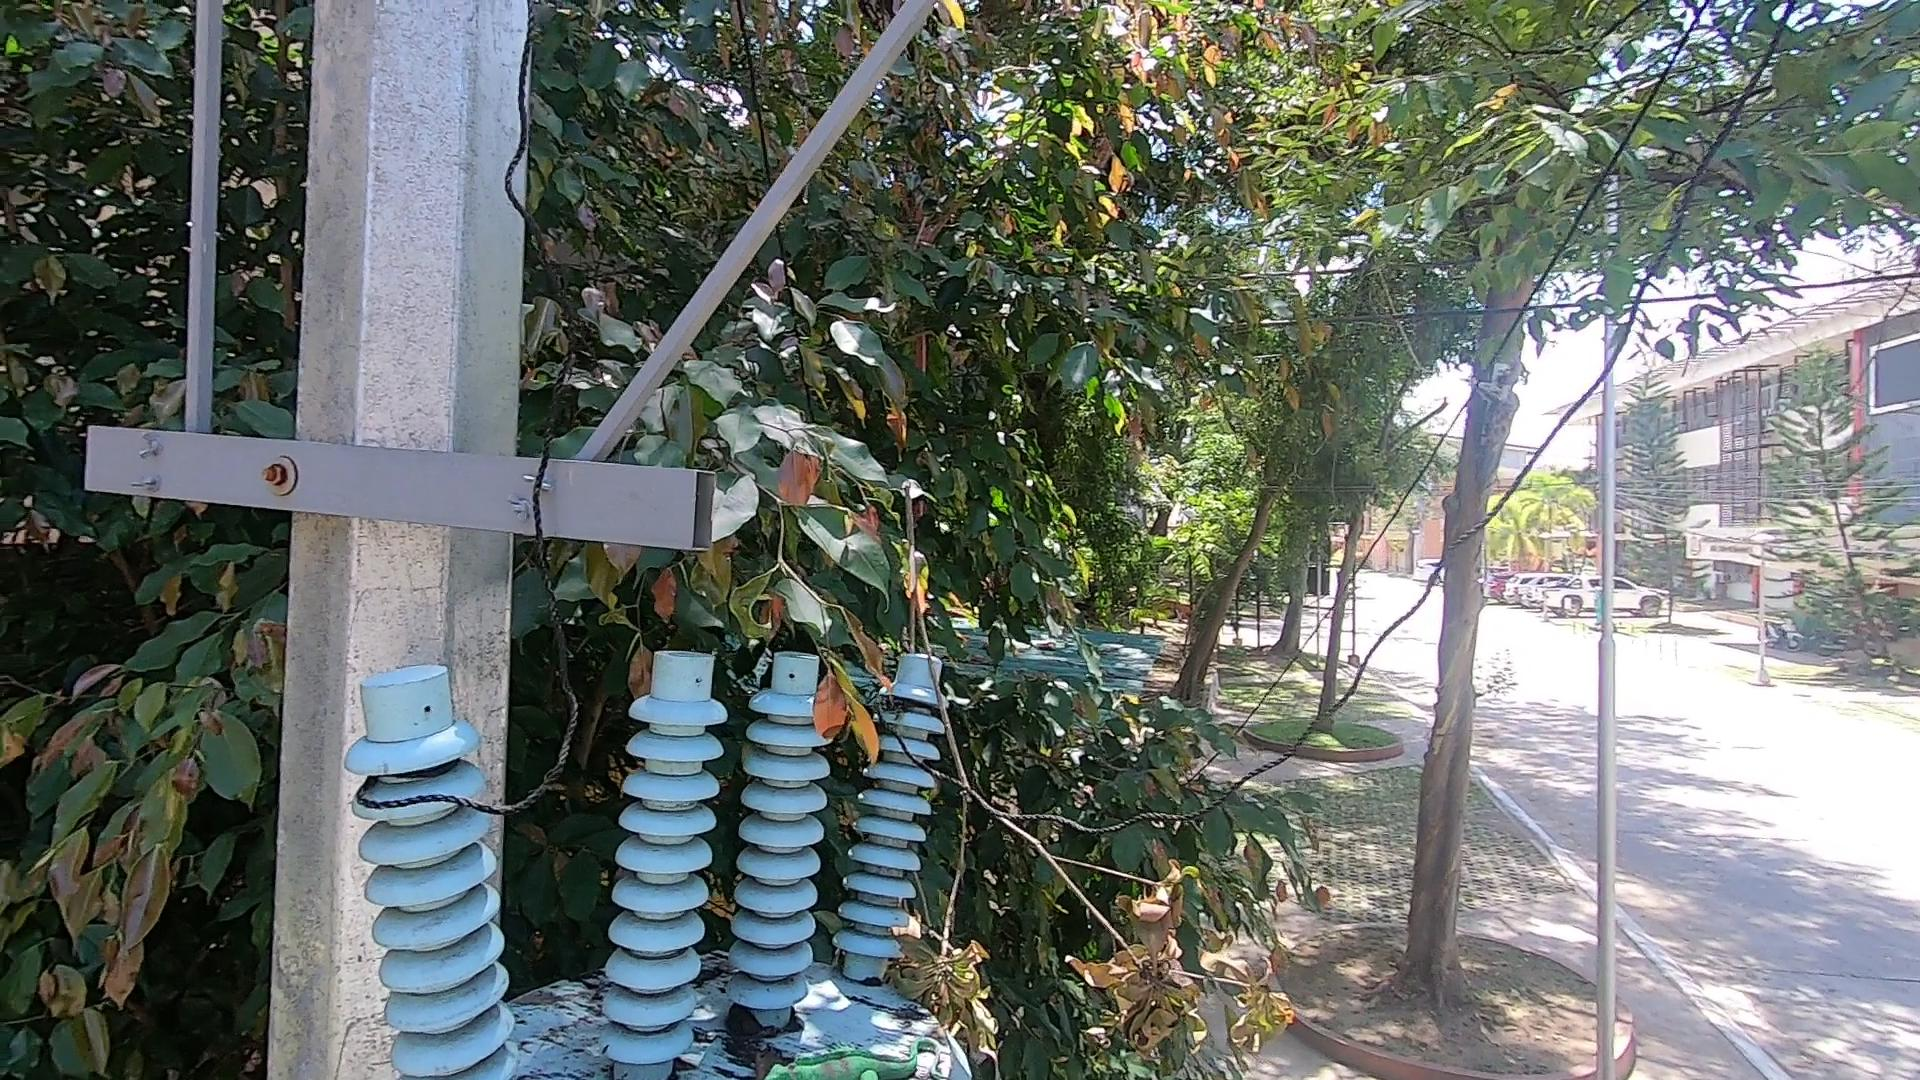branch with leaves: (889, 530, 1315, 1077)
leaf: (746, 1039, 800, 1080), (717, 1007, 761, 1052), (779, 1015, 819, 1035)
